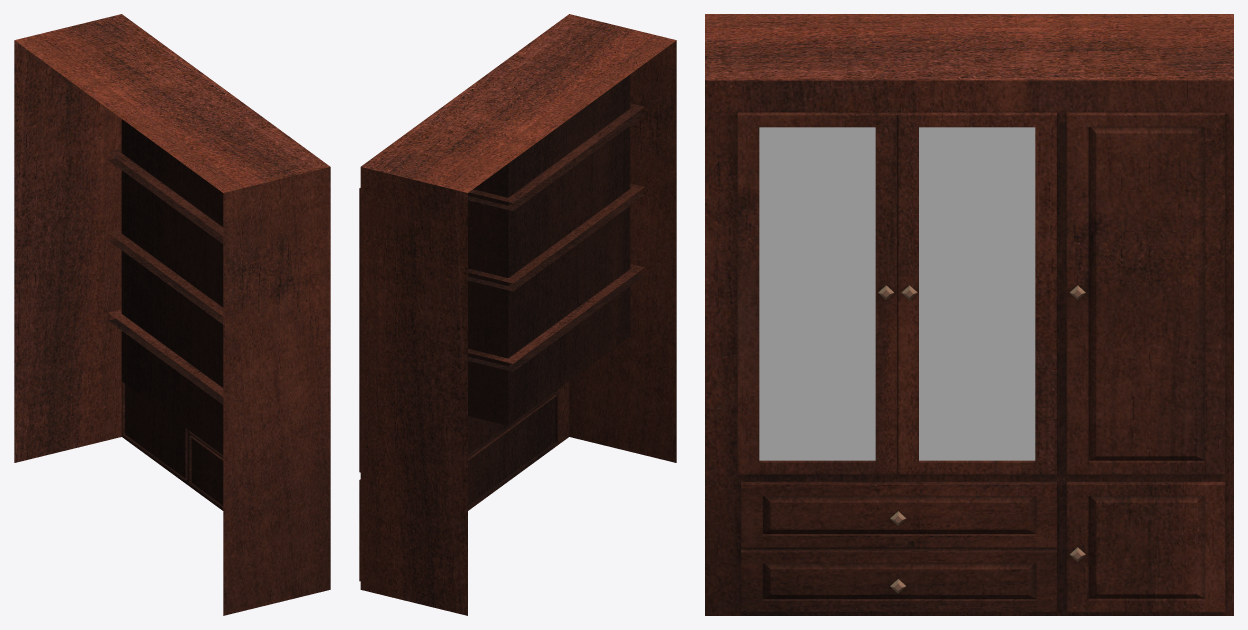
Rendered from Cabinet.fbx.
The picture shows the model from 3 angles, left to right: view 1: azimuth 30°, elevation 25°; view 2: azimuth 150°, elevation 25°; view 3: azimuth 270°, elevation 25°; orthographic projection. The views are drawn at different scales.
Parts seen in each view (by area): view 1: Cabinet_02; view 2: Cabinet_02; view 3: Cabinet_02.
Part boxes in pixels (x1=…): Cabinet_02: x1=14, y1=14, x2=330, y2=615; Cabinet_02: x1=359, y1=14, x2=676, y2=615; Cabinet_02: x1=705, y1=14, x2=1233, y2=615.
Bounding box in the file's own units: 0.629 × 2.13 × 1.91.
